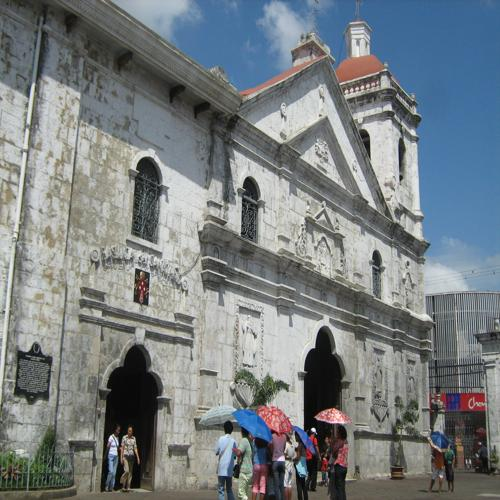Sto. Nino Basilica Church: (213, 5, 447, 487)
